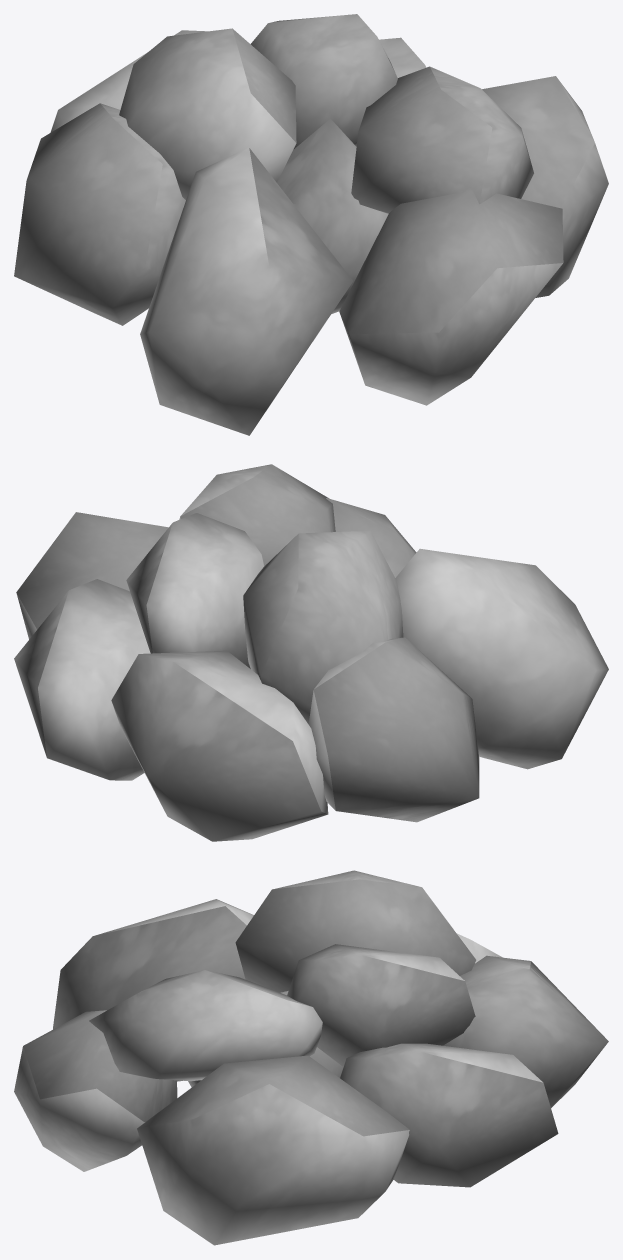
Rendered from SM_Charcoal_01a.fbx.
3 renders of one model, top to bottom at view 1: azimuth 30°, elevation 25°; view 2: azimuth 150°, elevation 25°; view 3: azimuth 270°, elevation 25°, orthographic. The views are drawn at different scales.
Visible parts, largest first — view 1: SM_Charcoal_01a_LOD0; view 2: SM_Charcoal_01a_LOD0; view 3: SM_Charcoal_01a_LOD0.
Part boxes in pixels (x1,y1,x2,y2): SM_Charcoal_01a_LOD0: (14, 14, 608, 435); SM_Charcoal_01a_LOD0: (14, 464, 608, 841); SM_Charcoal_01a_LOD0: (14, 870, 608, 1245).
Size of the model in its own units: 36.61 by 39.37 by 19.69.
